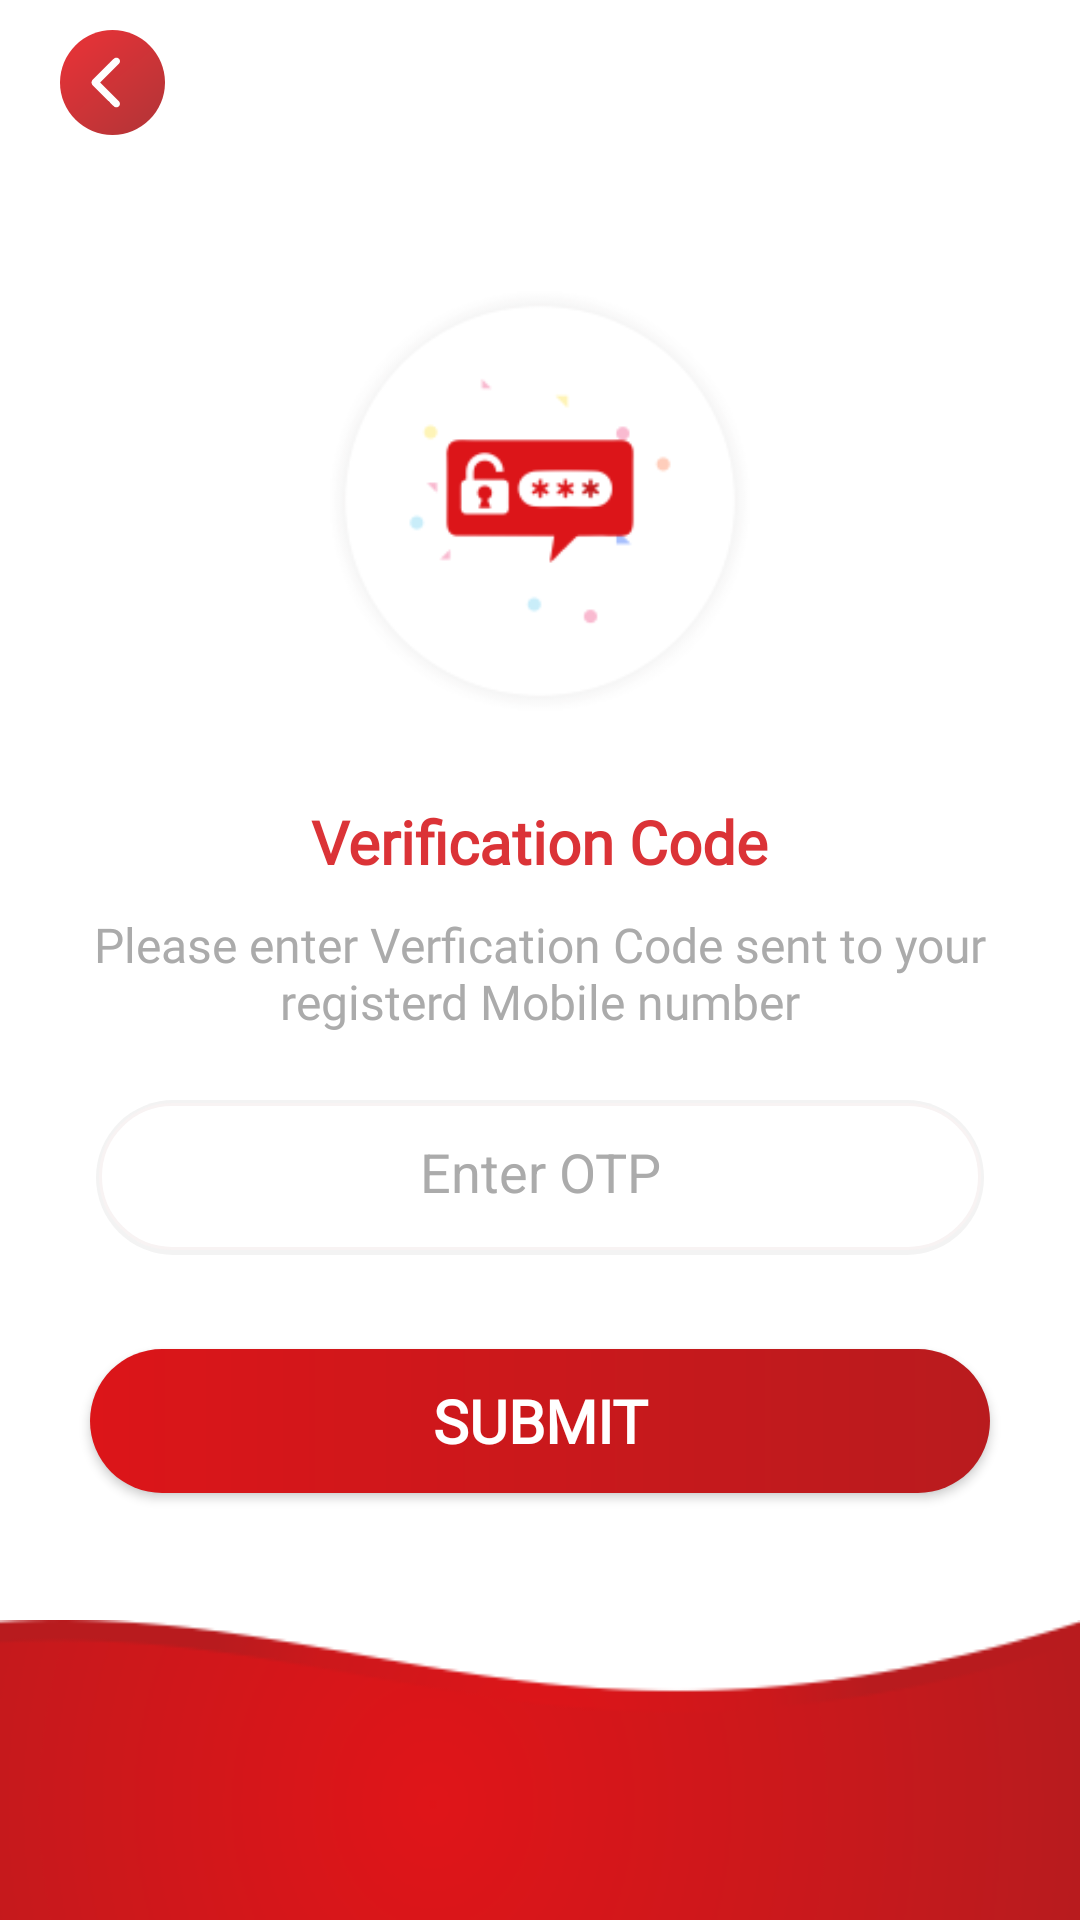

Named icons in this screenshot (1080px x 1920px) and their centers, point (x, y):
backarrow: point (112, 82)
verificationicon: point (540, 501)
